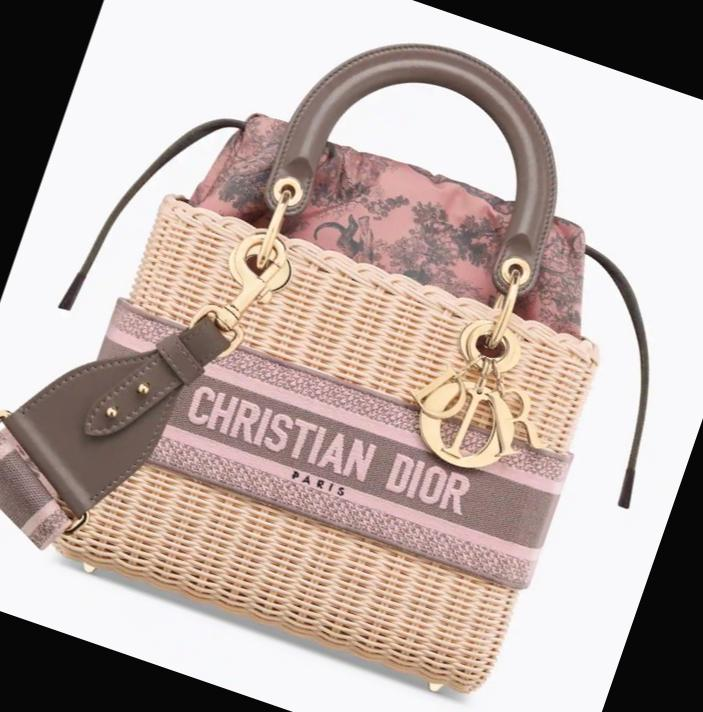DIOR: (160, 349, 496, 546)
